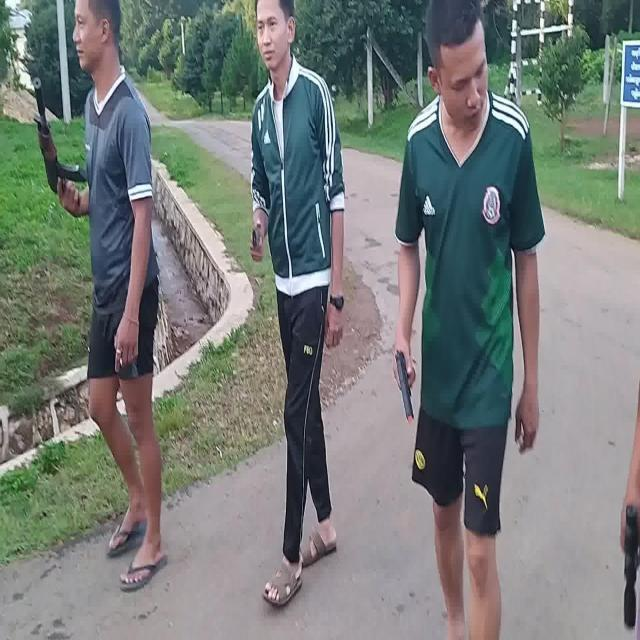gun: (33, 78, 86, 205), (394, 351, 414, 420)
